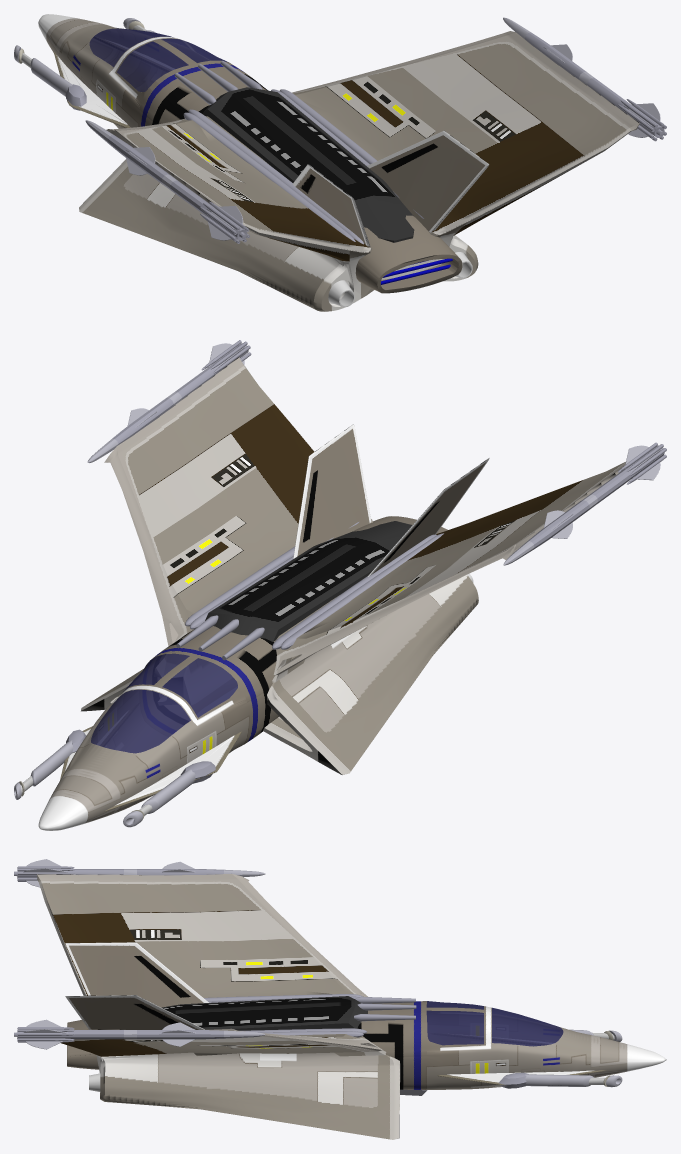
Rendered from talon-militia.glb.
3 views of the same model, one above another, from view 1: azimuth 30°, elevation 25°; view 2: azimuth 150°, elevation 25°; view 3: azimuth 270°, elevation 25° (orthographic). The views are drawn at different scales.
Parts seen in each view (by area): view 1: talon_militia; view 2: talon_militia; view 3: talon_militia.
Part boxes in pixels (<box>): talon_militia: <box>14,14,666,311</box>; talon_militia: <box>14,340,666,830</box>; talon_militia: <box>14,859,666,1139</box>.
Bounding box in the file's own units: 204 × 81.75 × 329.
Materials: 13 (6 with a texture image).
